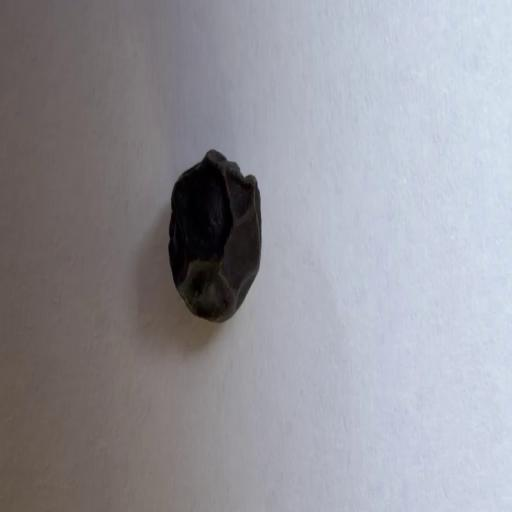Black_pepper: (156, 121, 275, 373)
